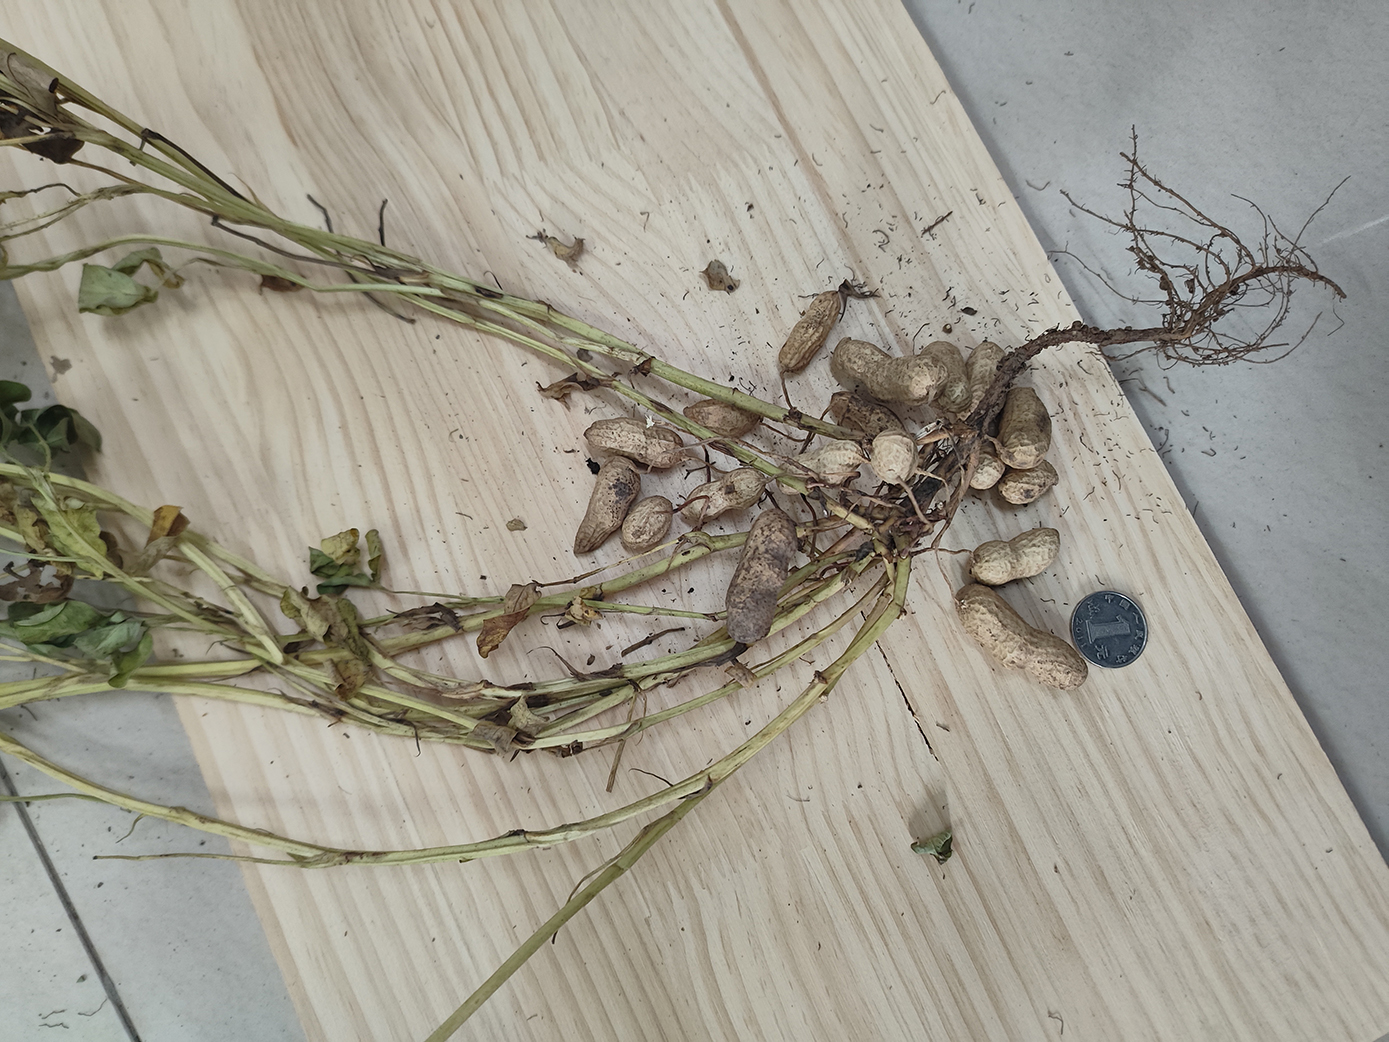h: (950, 584, 1089, 691), (834, 336, 946, 409), (574, 456, 643, 553), (777, 289, 842, 374), (584, 418, 683, 471), (971, 528, 1061, 584), (680, 467, 767, 522), (776, 442, 864, 494), (999, 387, 1052, 468), (961, 341, 1006, 424), (924, 340, 970, 414), (683, 398, 760, 438), (870, 429, 919, 488), (621, 496, 673, 548), (999, 462, 1060, 505), (958, 436, 1004, 491)
l: (727, 507, 797, 642)
